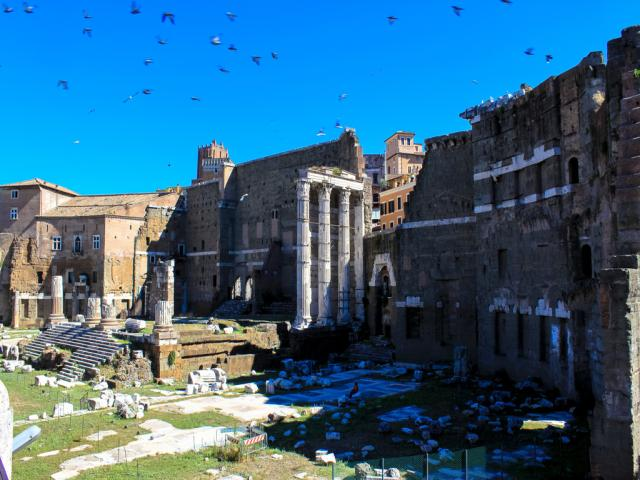Bird: (121, 89, 141, 106), (22, 2, 41, 14), (162, 10, 176, 26), (3, 1, 17, 14), (452, 5, 466, 18), (209, 36, 223, 48), (224, 10, 238, 22), (157, 36, 170, 48), (249, 53, 261, 66), (129, 0, 140, 14), (82, 7, 92, 21), (81, 26, 92, 38), (141, 86, 154, 96), (387, 14, 398, 25), (56, 80, 68, 90), (498, 0, 514, 7), (216, 64, 228, 73), (315, 126, 324, 138), (227, 44, 238, 53), (371, 69, 382, 78), (522, 48, 534, 56), (72, 136, 80, 147), (190, 96, 202, 103), (338, 95, 348, 103), (545, 54, 553, 64), (145, 58, 154, 66), (334, 120, 342, 129), (271, 52, 279, 60), (470, 78, 478, 86), (88, 108, 97, 114)
